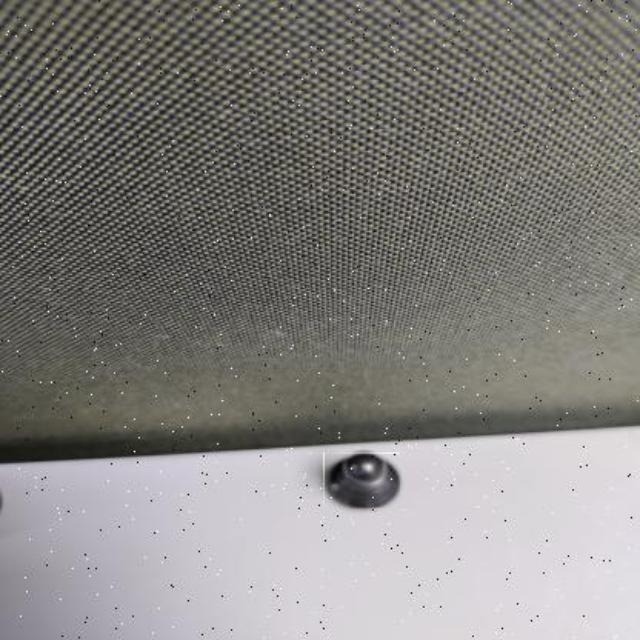black-pawn: (323, 453, 401, 509)
